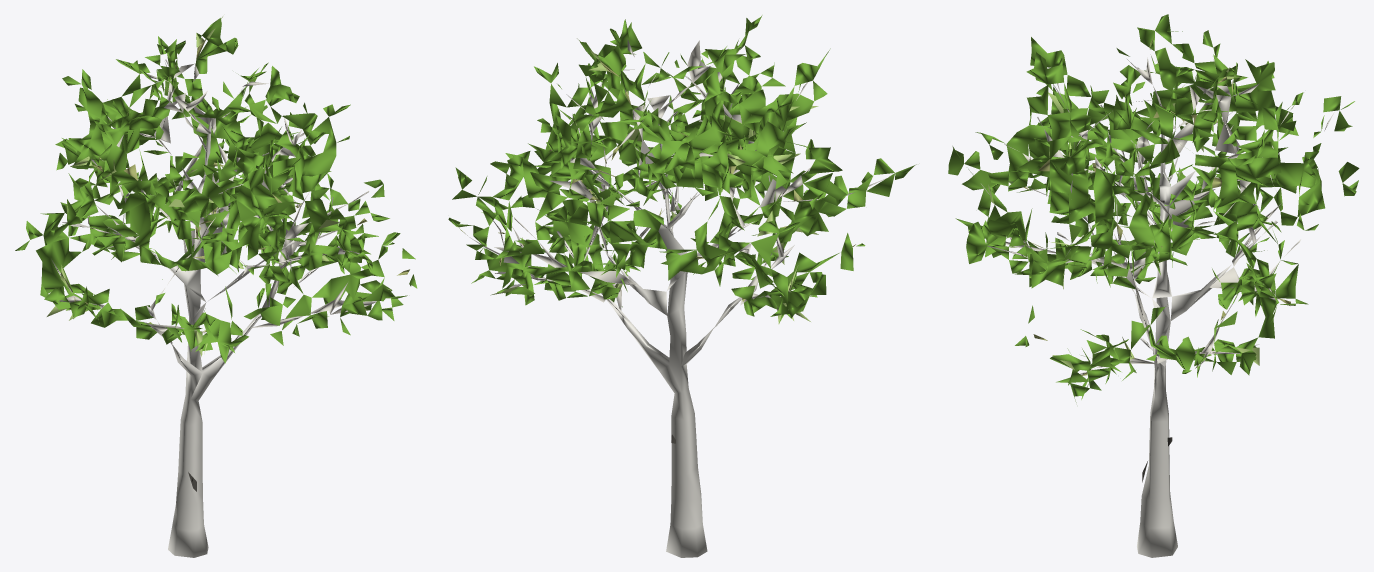
3 renders of one model, left to right at view 1: azimuth 30°, elevation 25°; view 2: azimuth 150°, elevation 25°; view 3: azimuth 270°, elevation 25°, orthographic. The views are drawn at different scales.
Parts seen in each view (by area): view 1: body; view 2: body; view 3: body.
Part boxes in pixels (box(x1,y1,x2,y2)): body: box(15, 16, 417, 557); body: box(448, 15, 916, 557); body: box(948, 14, 1359, 557).
Size of the model in its own units: 5.19 by 6.95 by 4.99.
Materials: 1 (1 with a texture image).
